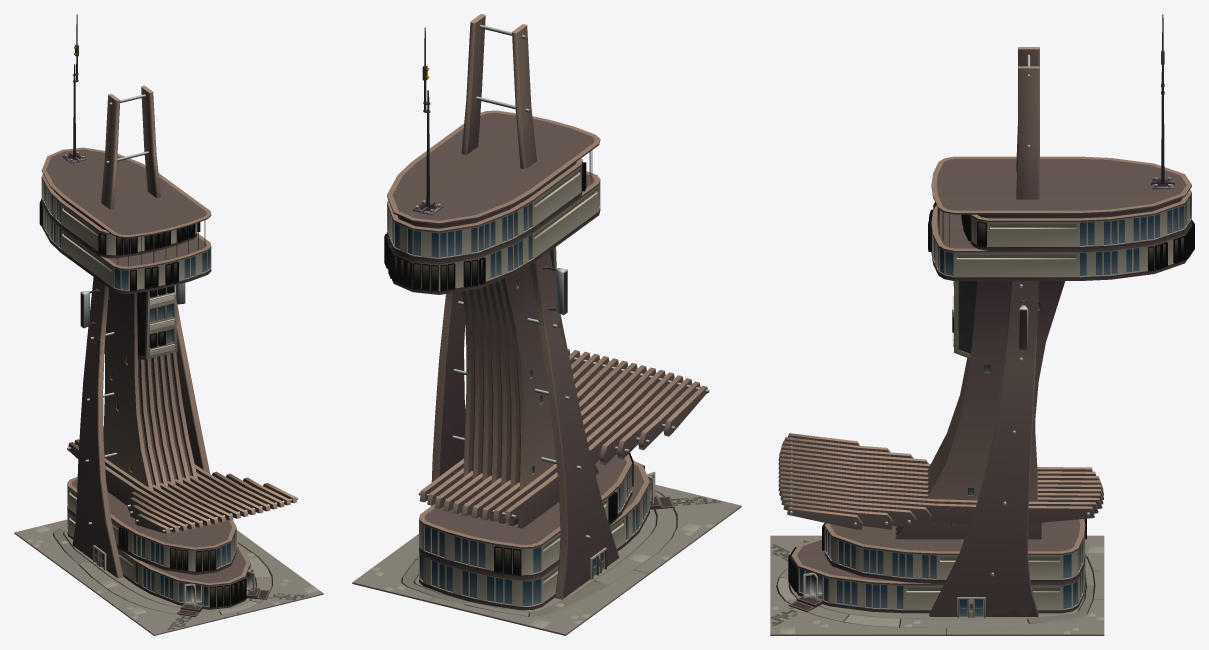
Rendered from tp_control_tower_01a.glb.
The picture shows the model from 3 angles, left to right: view 1: azimuth 30°, elevation 25°; view 2: azimuth 150°, elevation 25°; view 3: azimuth 270°, elevation 25°; orthographic projection. The views are drawn at different scales.
Visible parts, largest first — view 1: TP_Control_Tower_01A, TP_Control_Tower_01A_Lights; view 2: TP_Control_Tower_01A, TP_Control_Tower_01A_Lights; view 3: TP_Control_Tower_01A, TP_Control_Tower_01A_Lights.
Part boxes in pixels (left/top/right/bottom): TP_Control_Tower_01A: left=14, top=14, right=323, bottom=635; TP_Control_Tower_01A_Lights: left=39, top=198, right=246, bottom=607; TP_Control_Tower_01A: left=352, top=14, right=741, bottom=635; TP_Control_Tower_01A_Lights: left=384, top=162, right=644, bottom=575; TP_Control_Tower_01A: left=770, top=14, right=1191, bottom=635; TP_Control_Tower_01A_Lights: left=788, top=202, right=1194, bottom=591.
Size of the model in its own units: 28 by 75.95 by 50.89.
Materials: 3 (3 with a texture image).
